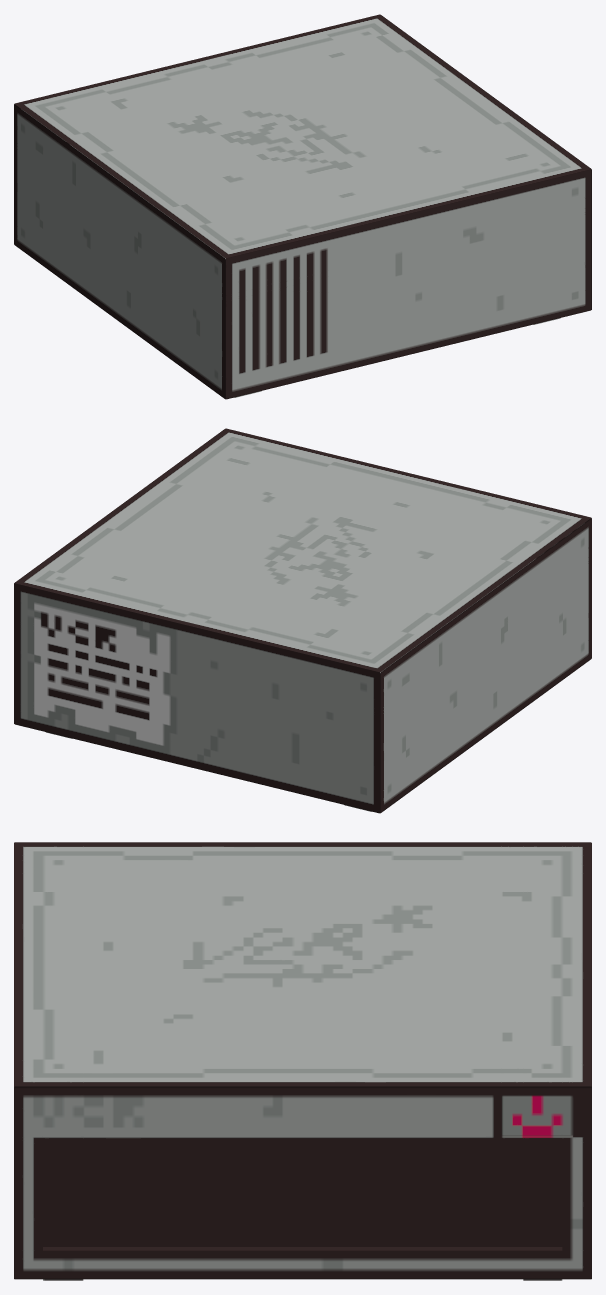
The model's file is vcr.fbx.
3 renders of one model, top to bottom at view 1: azimuth 30°, elevation 25°; view 2: azimuth 150°, elevation 25°; view 3: azimuth 270°, elevation 25°, orthographic. The views are drawn at different scales.
Visible parts, largest first — view 1: Cube; view 2: Cube; view 3: Cube, Plane.
Part boxes in pixels (<box>): Cube: <box>14,14,591,399</box>; Cube: <box>14,428,591,813</box>; Cube: <box>14,842,591,1280</box>; Plane: <box>43,1146,562,1246</box>.
Bounding box in the file's own units: 496 × 197 × 496.
